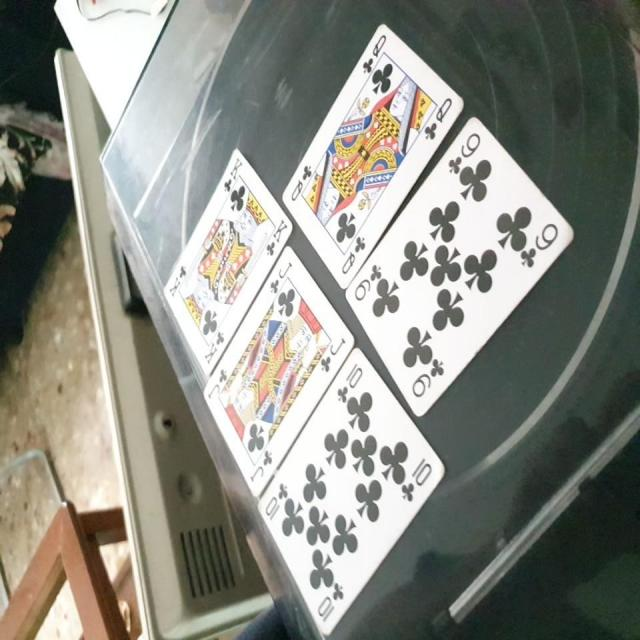10 Trefoils: (254, 346, 443, 636)
9 Trefoils: (340, 114, 577, 413)
J Trefoils: (202, 244, 356, 497)
K Trefoils: (160, 146, 292, 380)
Q Trefoils: (281, 21, 466, 290)
